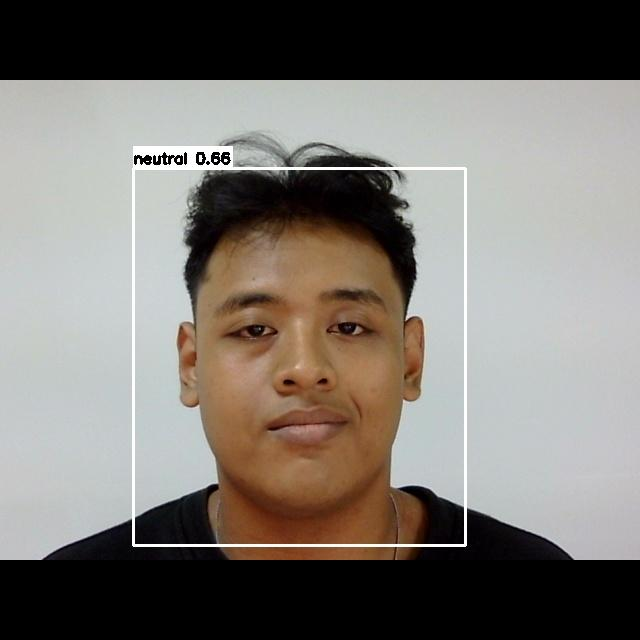Happy: (198, 267, 406, 478)
